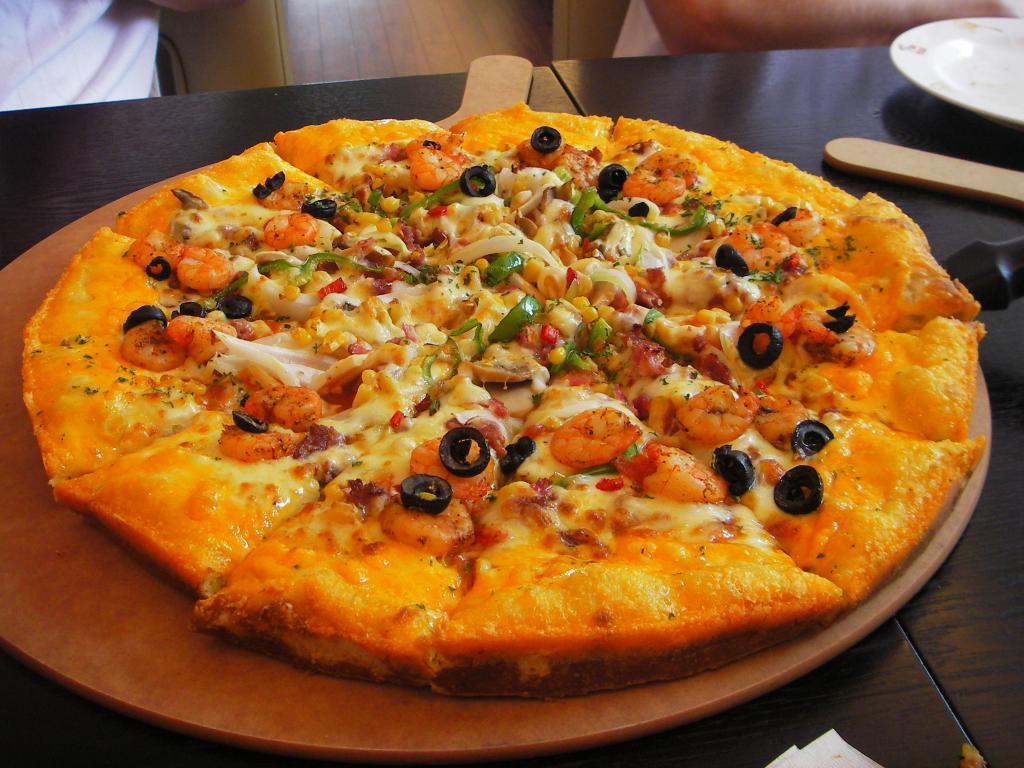Pizza: (458, 359, 844, 668), (601, 330, 1000, 602), (207, 363, 508, 669), (69, 385, 433, 579), (22, 223, 304, 469), (600, 150, 887, 309), (704, 320, 968, 442), (709, 193, 972, 314), (114, 133, 407, 241), (466, 108, 614, 271)
